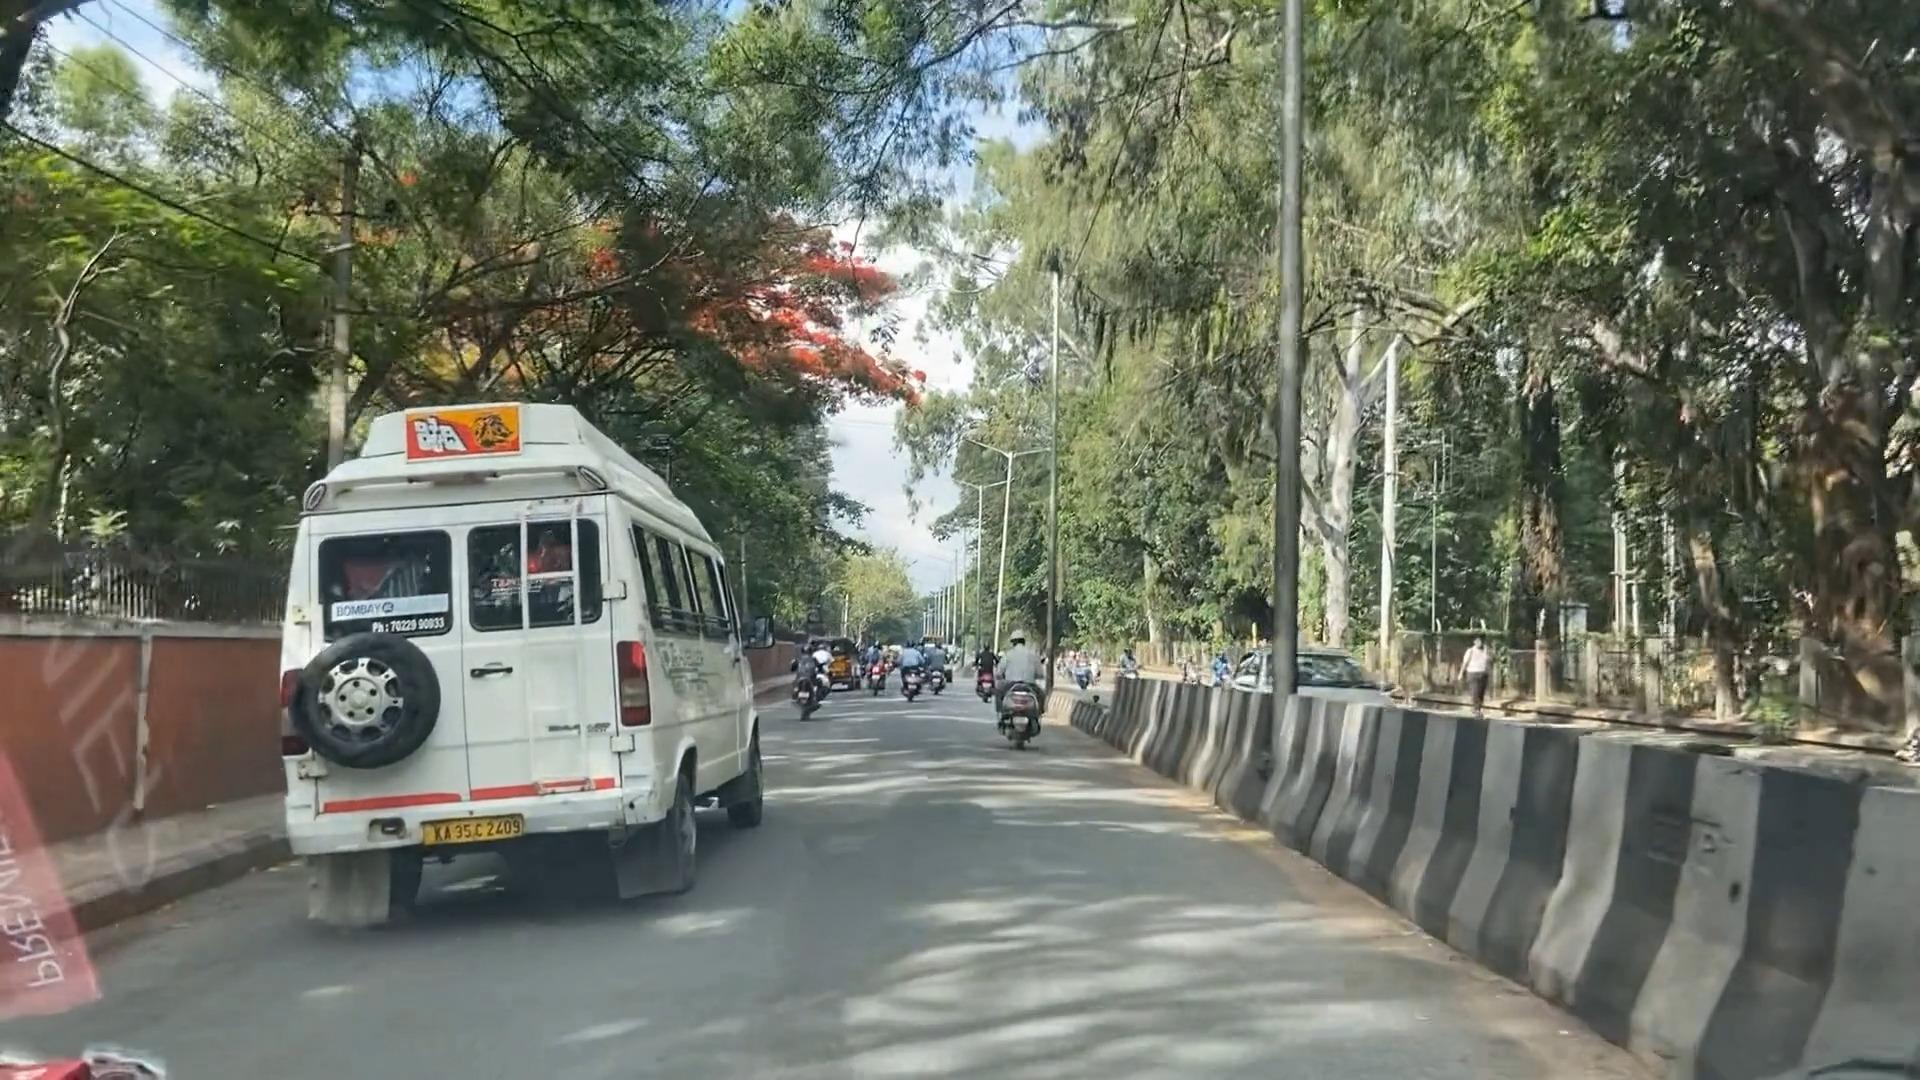HMV: (290, 406, 773, 905)
